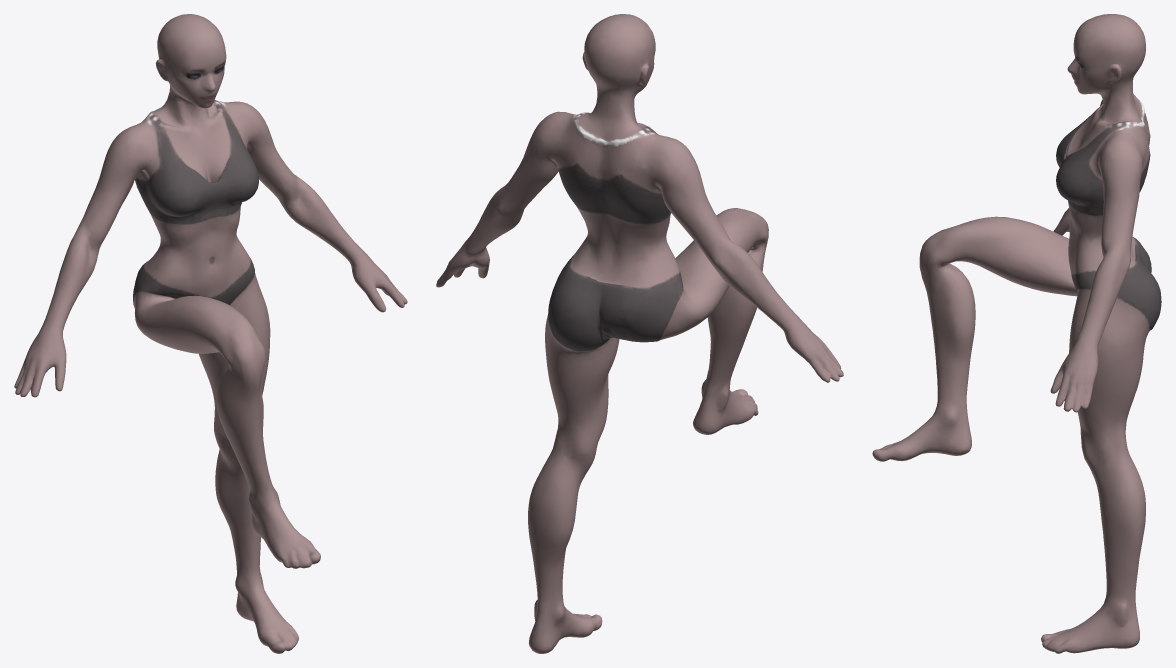
Rendered from 10-ThighL-90-child90-twist20-candidate.glb.
3 renders of one model, left to right at view 1: azimuth 30°, elevation 25°; view 2: azimuth 150°, elevation 25°; view 3: azimuth 270°, elevation 25°, orthographic. The views are drawn at different scales.
Parts seen in each view (by area): view 1: candidate; view 2: candidate; view 3: candidate.
Boxes of the visible parts, bbox=[...] form: candidate: bbox=[14, 14, 407, 653]; candidate: bbox=[436, 14, 843, 653]; candidate: bbox=[872, 14, 1161, 653].
Size of the model in its own units: 0.6509 by 1 by 0.436.
Materials: 1 (1 with a texture image).
